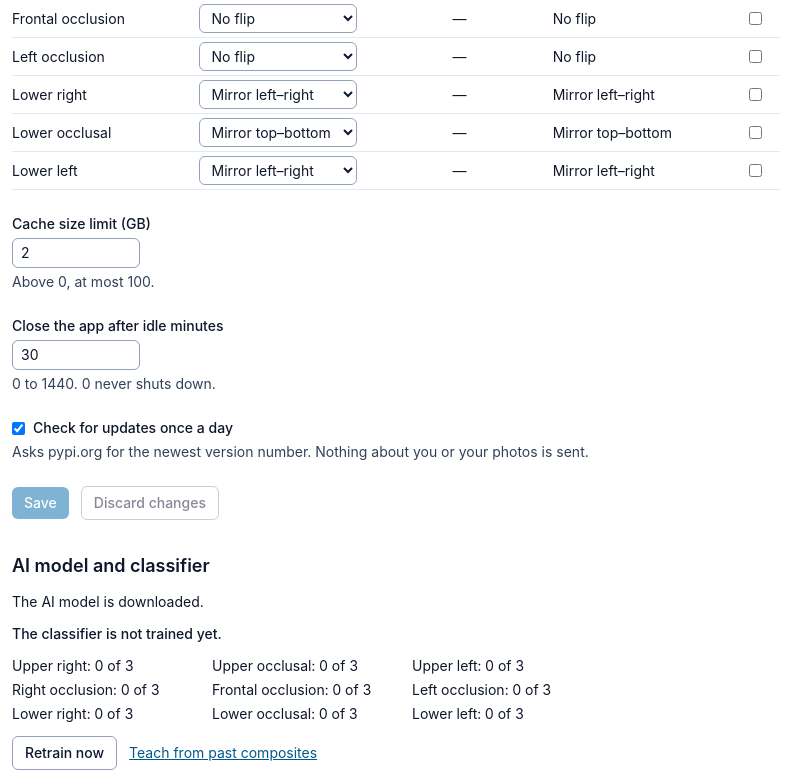
Test: SettingsScreen › a failed retrain says why
(page scrolled)
Click the button "Retrain now": {"x": 65, "y": 753} [12,736,117,769]
(page scrolled)
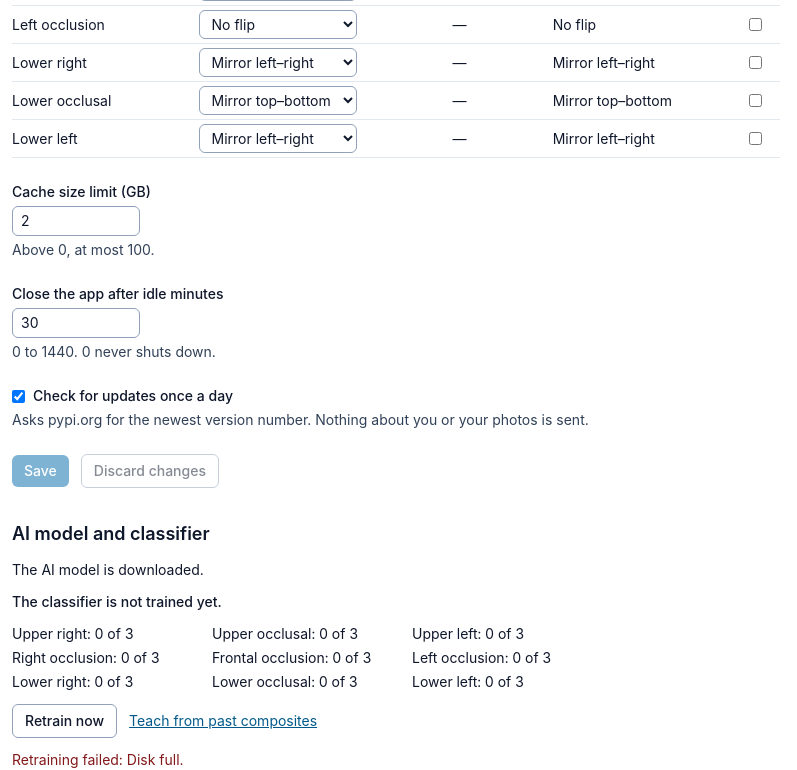
Expected: the message shows "Disk full.", [12,751,184,768]
